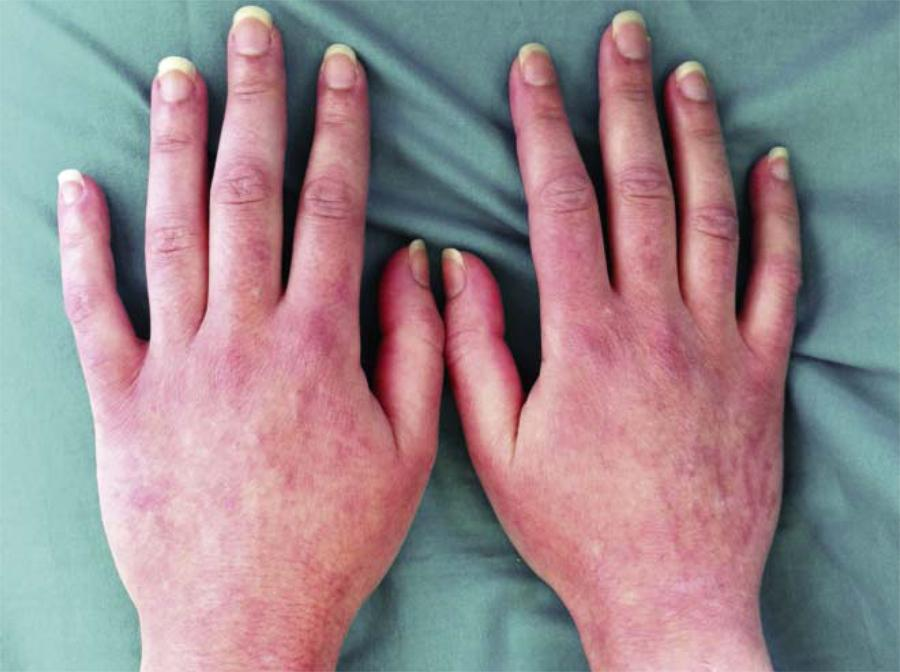Diseased: (107, 144, 752, 612)
